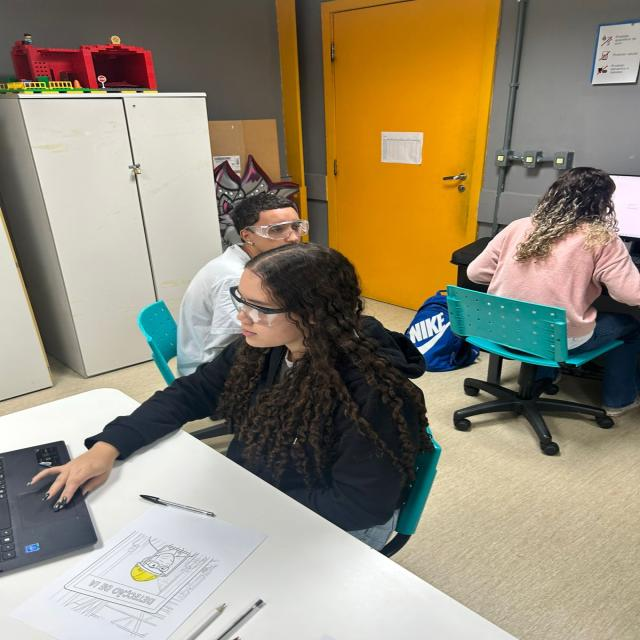oculos-epi: (230, 285, 294, 327), (241, 220, 310, 240)
